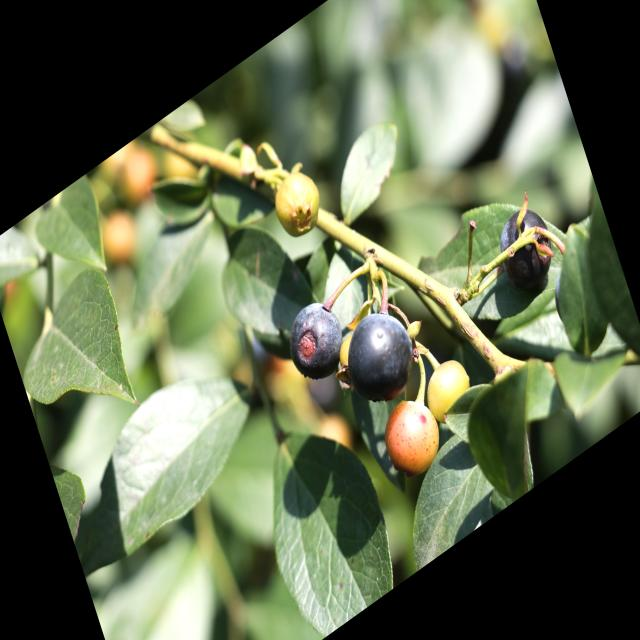blueberry: (336, 292, 426, 422), (486, 195, 560, 305), (279, 287, 350, 393)
blueberry-halfripe: (374, 382, 448, 490)
blueberry-unripe: (419, 345, 480, 433), (268, 161, 326, 245)
